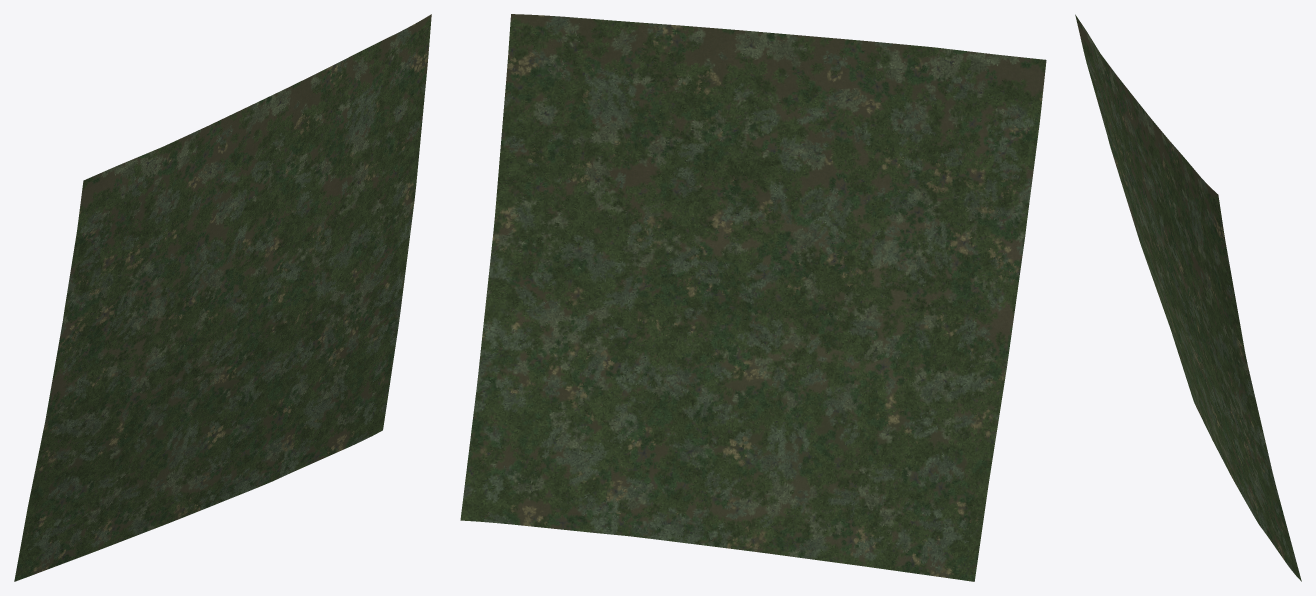
Rendered from terrain_near_09_07.obj.
The picture shows the model from 3 angles, left to right: view 1: azimuth 30°, elevation 25°; view 2: azimuth 150°, elevation 25°; view 3: azimuth 270°, elevation 25°; orthographic projection. The views are drawn at different scales.
Visible parts, largest first — view 1: terrain_near_09_07; view 2: terrain_near_09_07; view 3: terrain_near_09_07.
Part boxes in pixels (x1=…): terrain_near_09_07: x1=14, y1=14, x2=431, y2=581; terrain_near_09_07: x1=460, y1=14, x2=1046, y2=581; terrain_near_09_07: x1=1075, y1=14, x2=1301, y2=581.
Bounding box in the file's own units: 64 × 64 × 33.96.
Materials: 1 (1 with a texture image).
